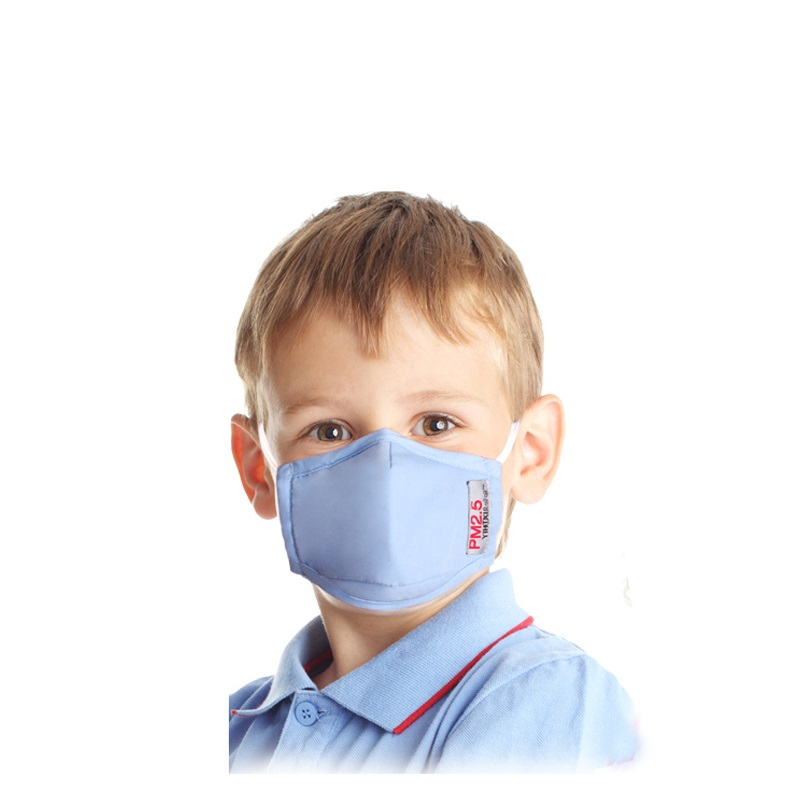face_mask: (272, 287, 508, 600)
